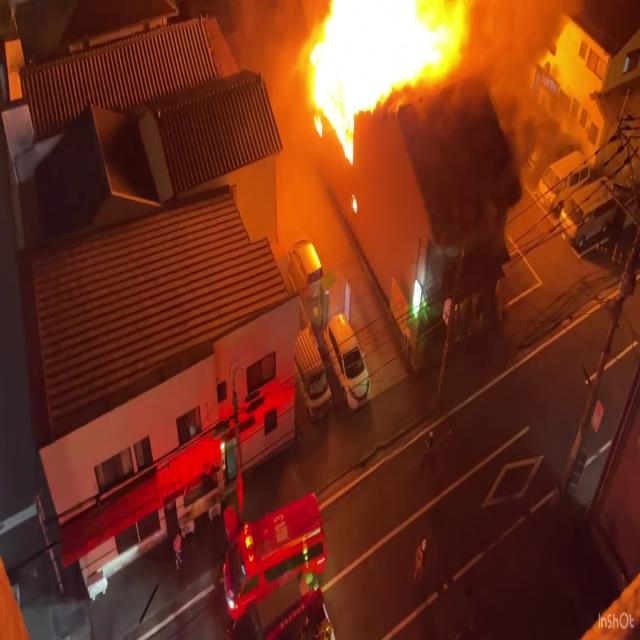Fire: (299, 0, 471, 144)
